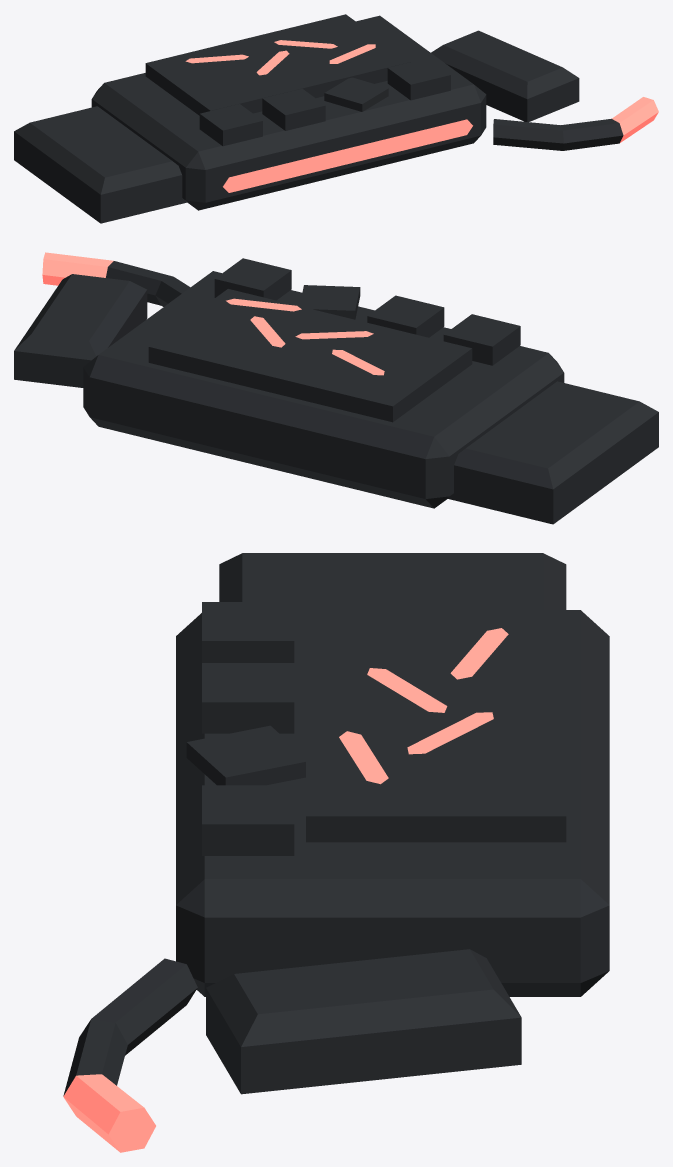
Rendered from dead_deck.glb.
3 renders of one model, top to bottom at view 1: azimuth 30°, elevation 25°; view 2: azimuth 150°, elevation 25°; view 3: azimuth 270°, elevation 25°, orthographic. The views are drawn at different scales.
Visible parts, largest first — view 1: Mesh; view 2: Mesh; view 3: Mesh.
Boxes of the visible parts, box(x1,y1,x2,y2) form: Mesh: box(14, 14, 658, 223); Mesh: box(14, 252, 658, 524); Mesh: box(63, 553, 609, 1152).
Size of the model in its own units: 0.4235 by 0.0643 by 0.1889.
